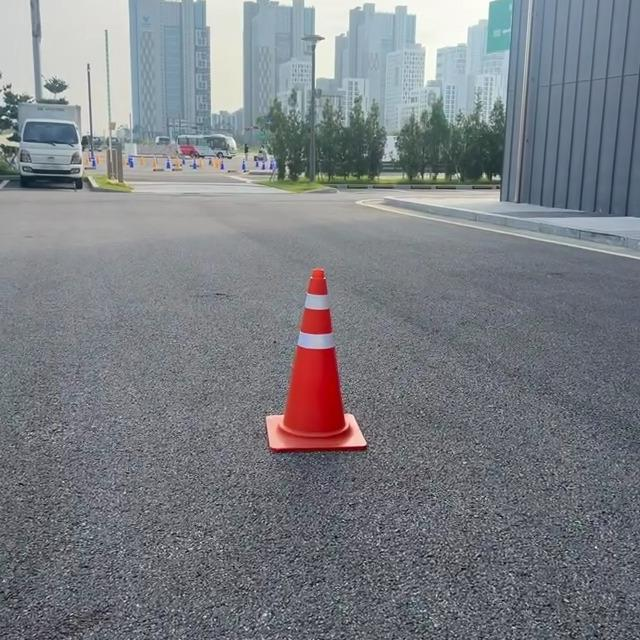fallen_object: (256, 233, 379, 499)
